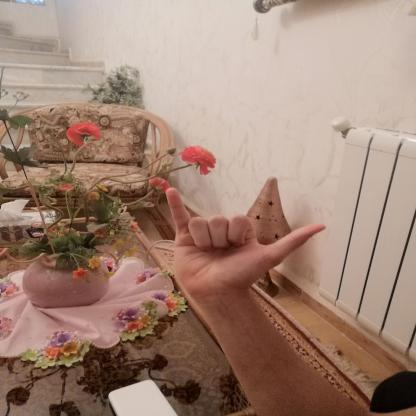YA: (148, 172, 339, 308)
